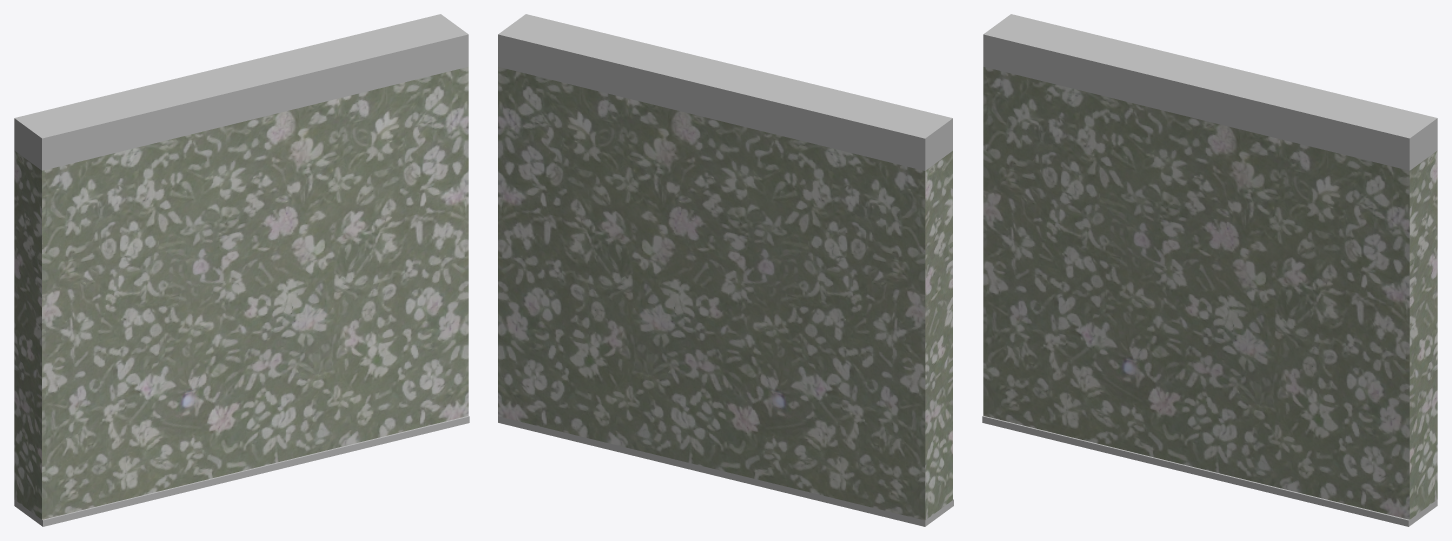
File: kitcentop01aab.fbx
The picture shows the model from 3 angles, left to right: view 1: azimuth 30°, elevation 25°; view 2: azimuth 150°, elevation 25°; view 3: azimuth 330°, elevation 25°; orthographic projection.
Parts seen in each view (by area): view 1: kitcentop01aab; view 2: kitcentop01aab; view 3: kitcentop01aab.
Boxes of the visible parts, x1,y1,x2,y2 form: kitcentop01aab: (14, 14, 469, 526); kitcentop01aab: (498, 14, 953, 526); kitcentop01aab: (982, 14, 1437, 526).
Size of the model in its own units: 1.85 by 1.61 by 0.2174.
